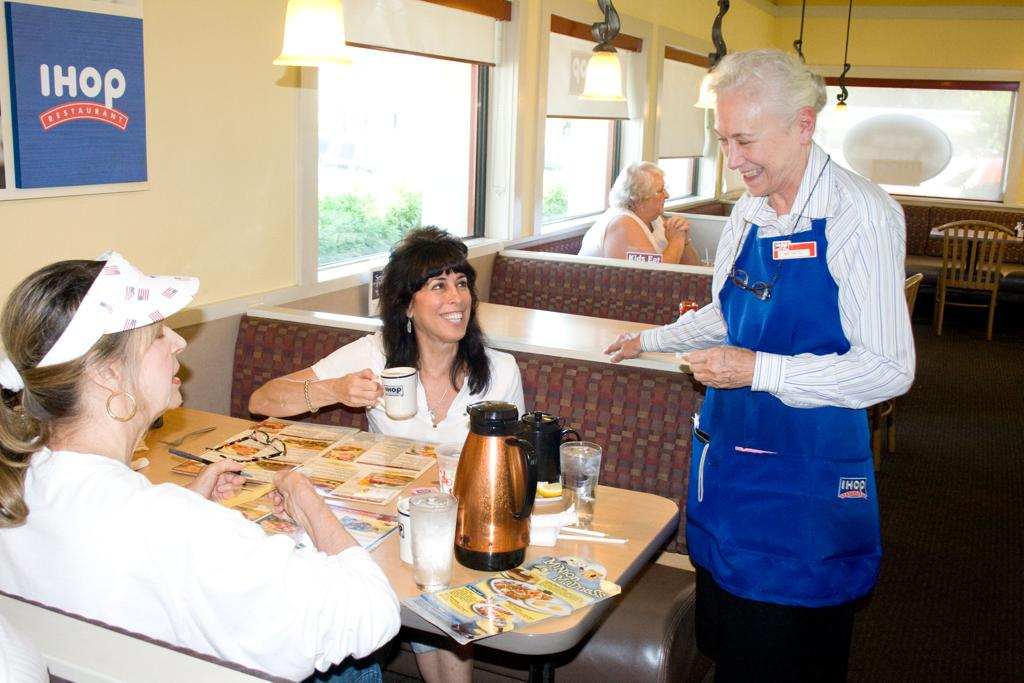face: (712, 111, 799, 195), (116, 320, 188, 411), (419, 280, 472, 338), (641, 180, 669, 213)
